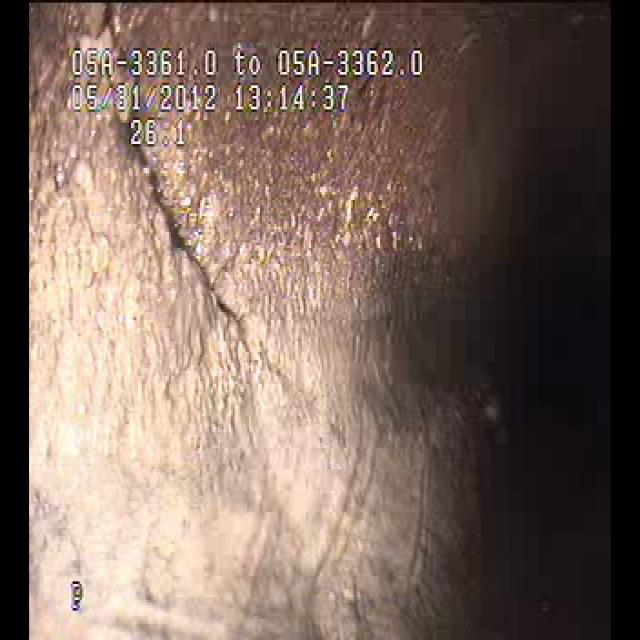Crack: (148, 164, 313, 442)
